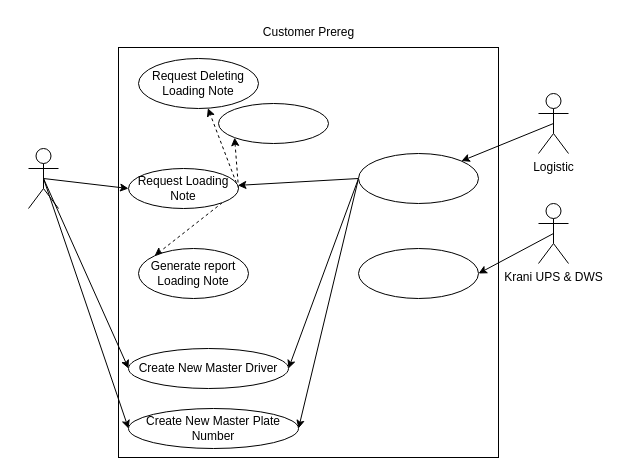
The diagram is 620 pixels wide and 475 high, and some of its shapes have lost their labels. The centre of each missing label's shape, as x and y in pixels:
Approval Request: point 418,178
Customer: point 43,178
Edit Loading Note: point 418,273
Generate Loading Note: point 273,123
